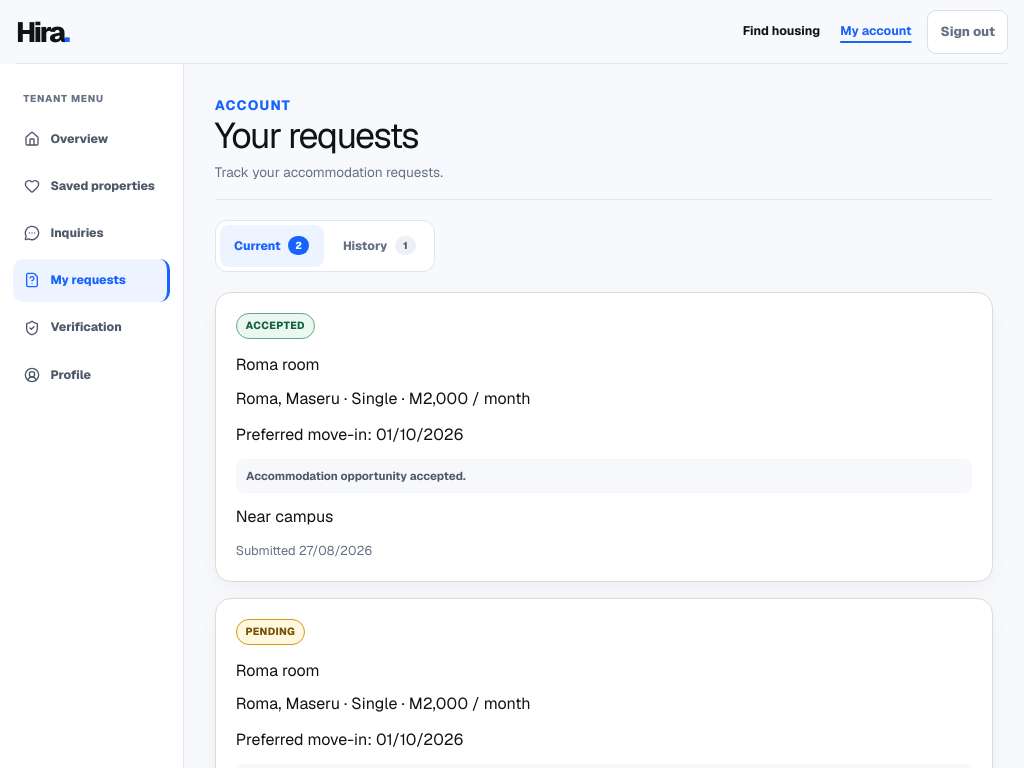
Test case: RequestList › groups current and historical requests with independent counts and empty states
Expected: the text "PENDING" is shown, [236,618,305,645]
Expected: the text "ACCEPTED" is shown, [236,313,315,339]
Step 1. Click the tab "History 1" → (380, 246), box [328,224,430,267]
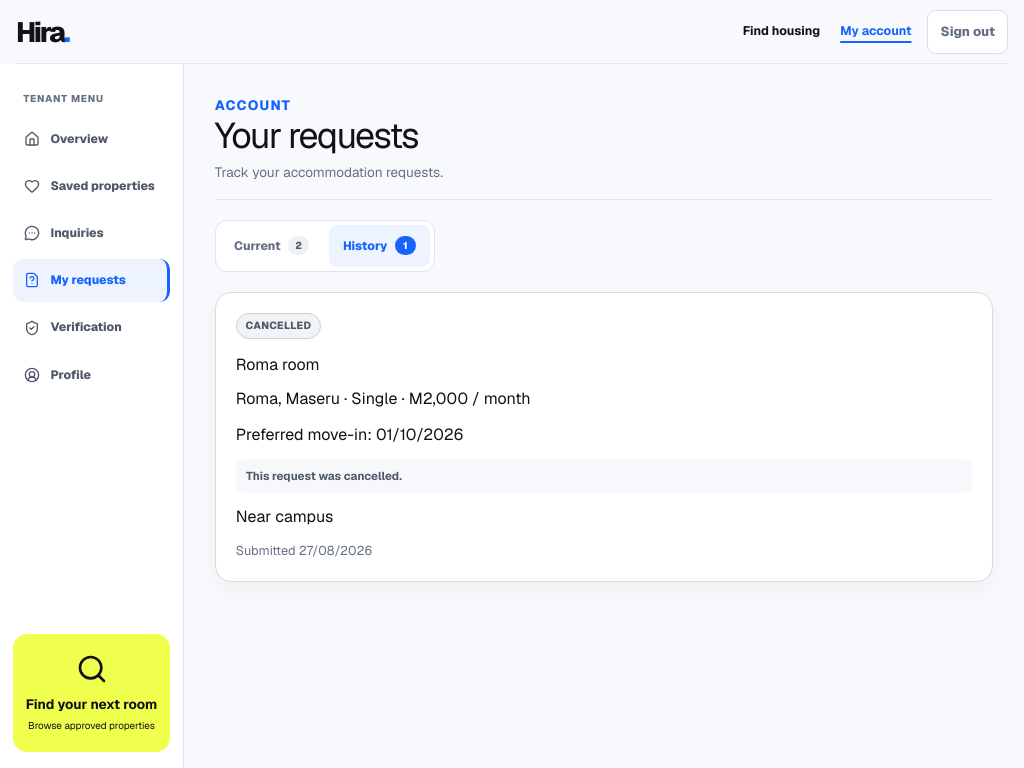
Now the text "CANCELLED" is shown, box [236,313,321,339]
Now the text "PENDING" is gone
